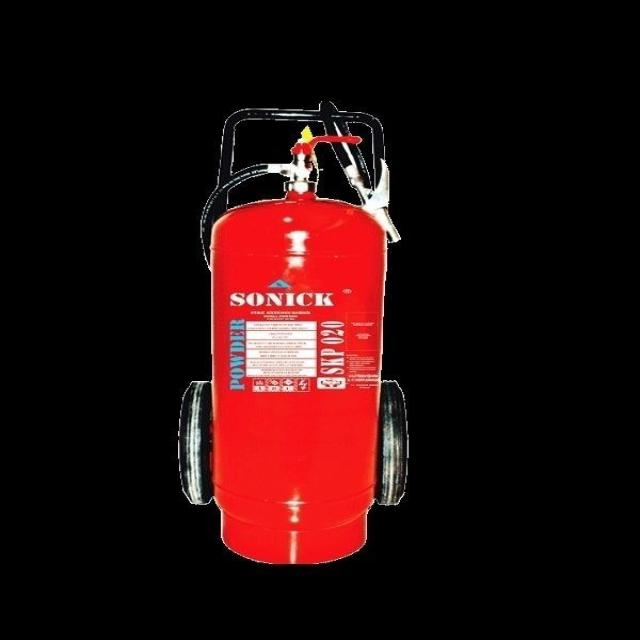fire_extinguisher: (189, 100, 405, 572)
